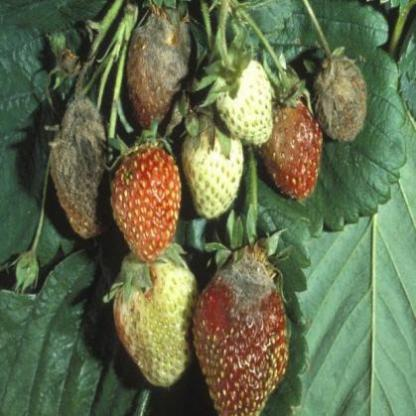Strawberry_Gray_Mold: (44, 92, 110, 239), (126, 4, 192, 127), (203, 246, 282, 346), (311, 52, 367, 143)
